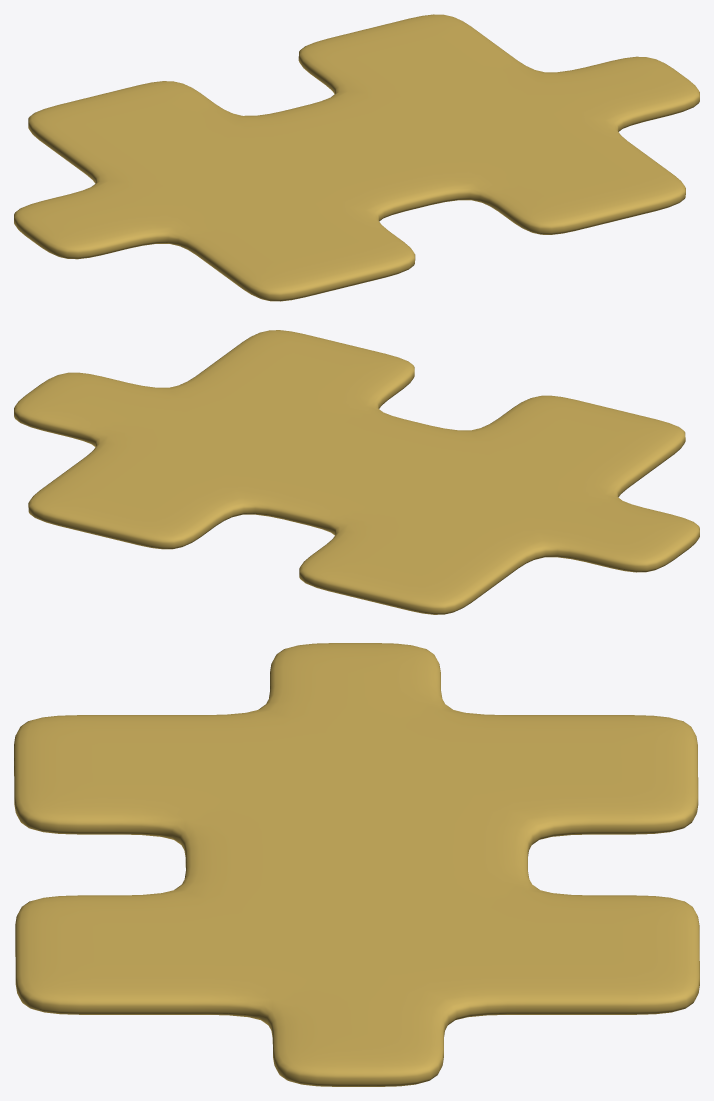
File: GoldenPuzzle-04-MFMF.fbx
The picture shows the model from 3 angles, top to bottom: view 1: azimuth 30°, elevation 25°; view 2: azimuth 150°, elevation 25°; view 3: azimuth 270°, elevation 25°; orthographic projection. The views are drawn at different scales.
Parts seen in each view (by area): view 1: Puzzle_004; view 2: Puzzle_004; view 3: Puzzle_004.
Part boxes in pixels (x1,y1,x2,y2): Puzzle_004: (14,14,699,301); Puzzle_004: (14,330,699,614); Puzzle_004: (14,643,699,1086).
Size of the model in its own units: 0.375 by 0.00924 by 0.2512.
